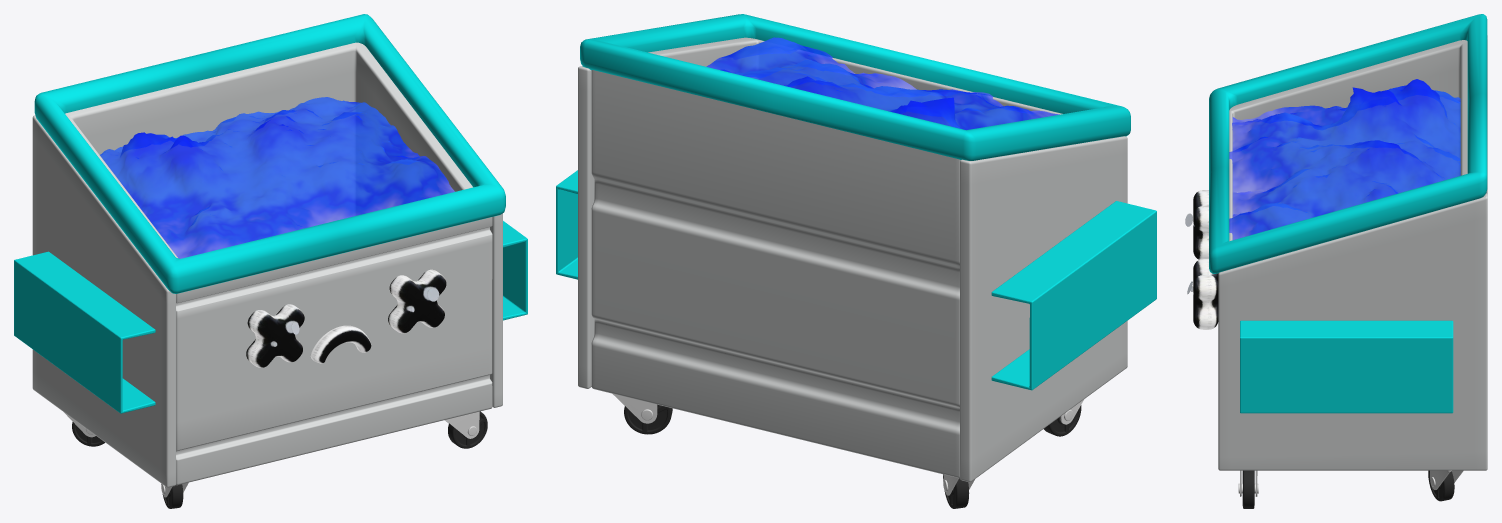
The picture shows the model from 3 angles, left to right: view 1: azimuth 30°, elevation 25°; view 2: azimuth 150°, elevation 25°; view 3: azimuth 270°, elevation 25°; orthographic projection. The views are drawn at different scales.
Parts seen in each view (by area): view 1: Dumpster Geometry, Explosion Fire Base.002, Wheel Holder; view 2: Dumpster Geometry, Explosion Fire Base.002, Wheel Holder; view 3: Dumpster Geometry, Explosion Fire Base.002, Wheel Holder.
Boxes of the visible parts, x1,y1,x2,y2 form: Dumpster Geometry: (14, 14, 527, 508); Explosion Fire Base.002: (100, 97, 454, 258); Wheel Holder: (64, 411, 479, 497); Dumpster Geometry: (556, 14, 1156, 508); Explosion Fire Base.002: (706, 37, 1059, 129); Wheel Holder: (612, 393, 1083, 495); Dumpster Geometry: (1185, 14, 1487, 508); Explosion Fire Base.002: (1229, 79, 1460, 239); Wheel Holder: (1238, 470, 1463, 496).
Size of what is drawn, in the model's own units: 2.3 by 1.85 by 1.48.
7 materials, 3 textured.
